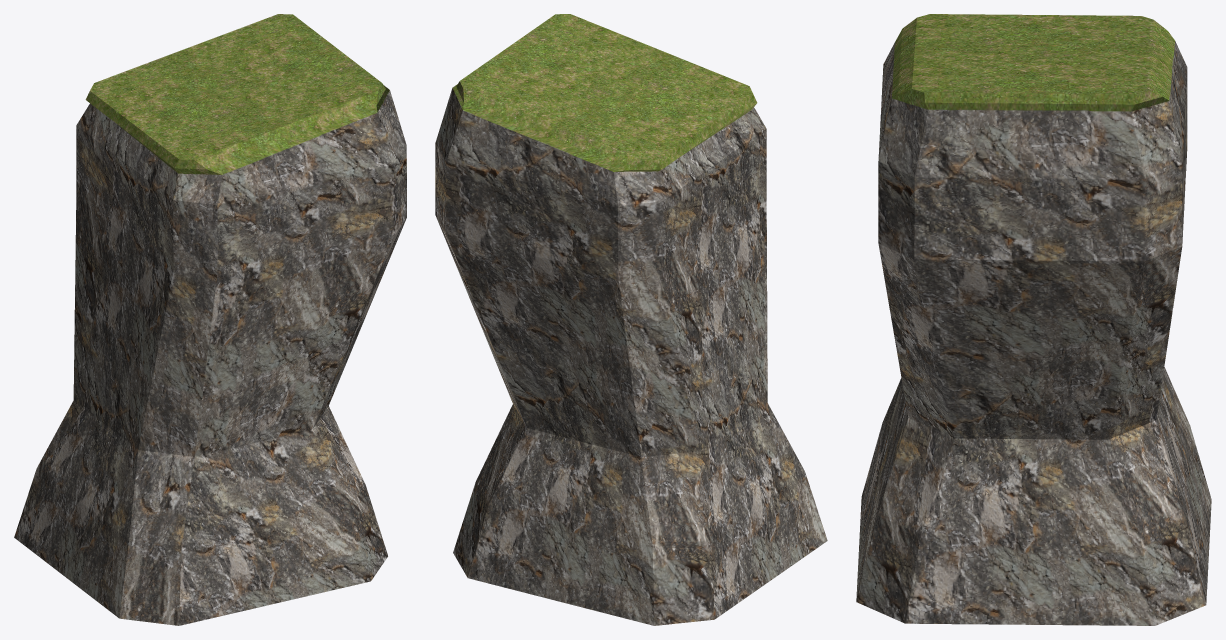
The model's file is ARC0310007.fbx.
3 renders of one model, left to right at view 1: azimuth 30°, elevation 25°; view 2: azimuth 150°, elevation 25°; view 3: azimuth 270°, elevation 25°, orthographic. The views are drawn at different scales.
Visible parts, largest first — view 1: smARC0310007; view 2: smARC0310007; view 3: smARC0310007.
Boxes of the visible parts, box(x1,y1,x2,y2) form: smARC0310007: box(14, 14, 406, 625); smARC0310007: box(435, 14, 827, 625); smARC0310007: box(856, 14, 1211, 625).
Bounding box in the file's own units: 84.64 × 129 × 78.18.
1 material, 1 textured.
